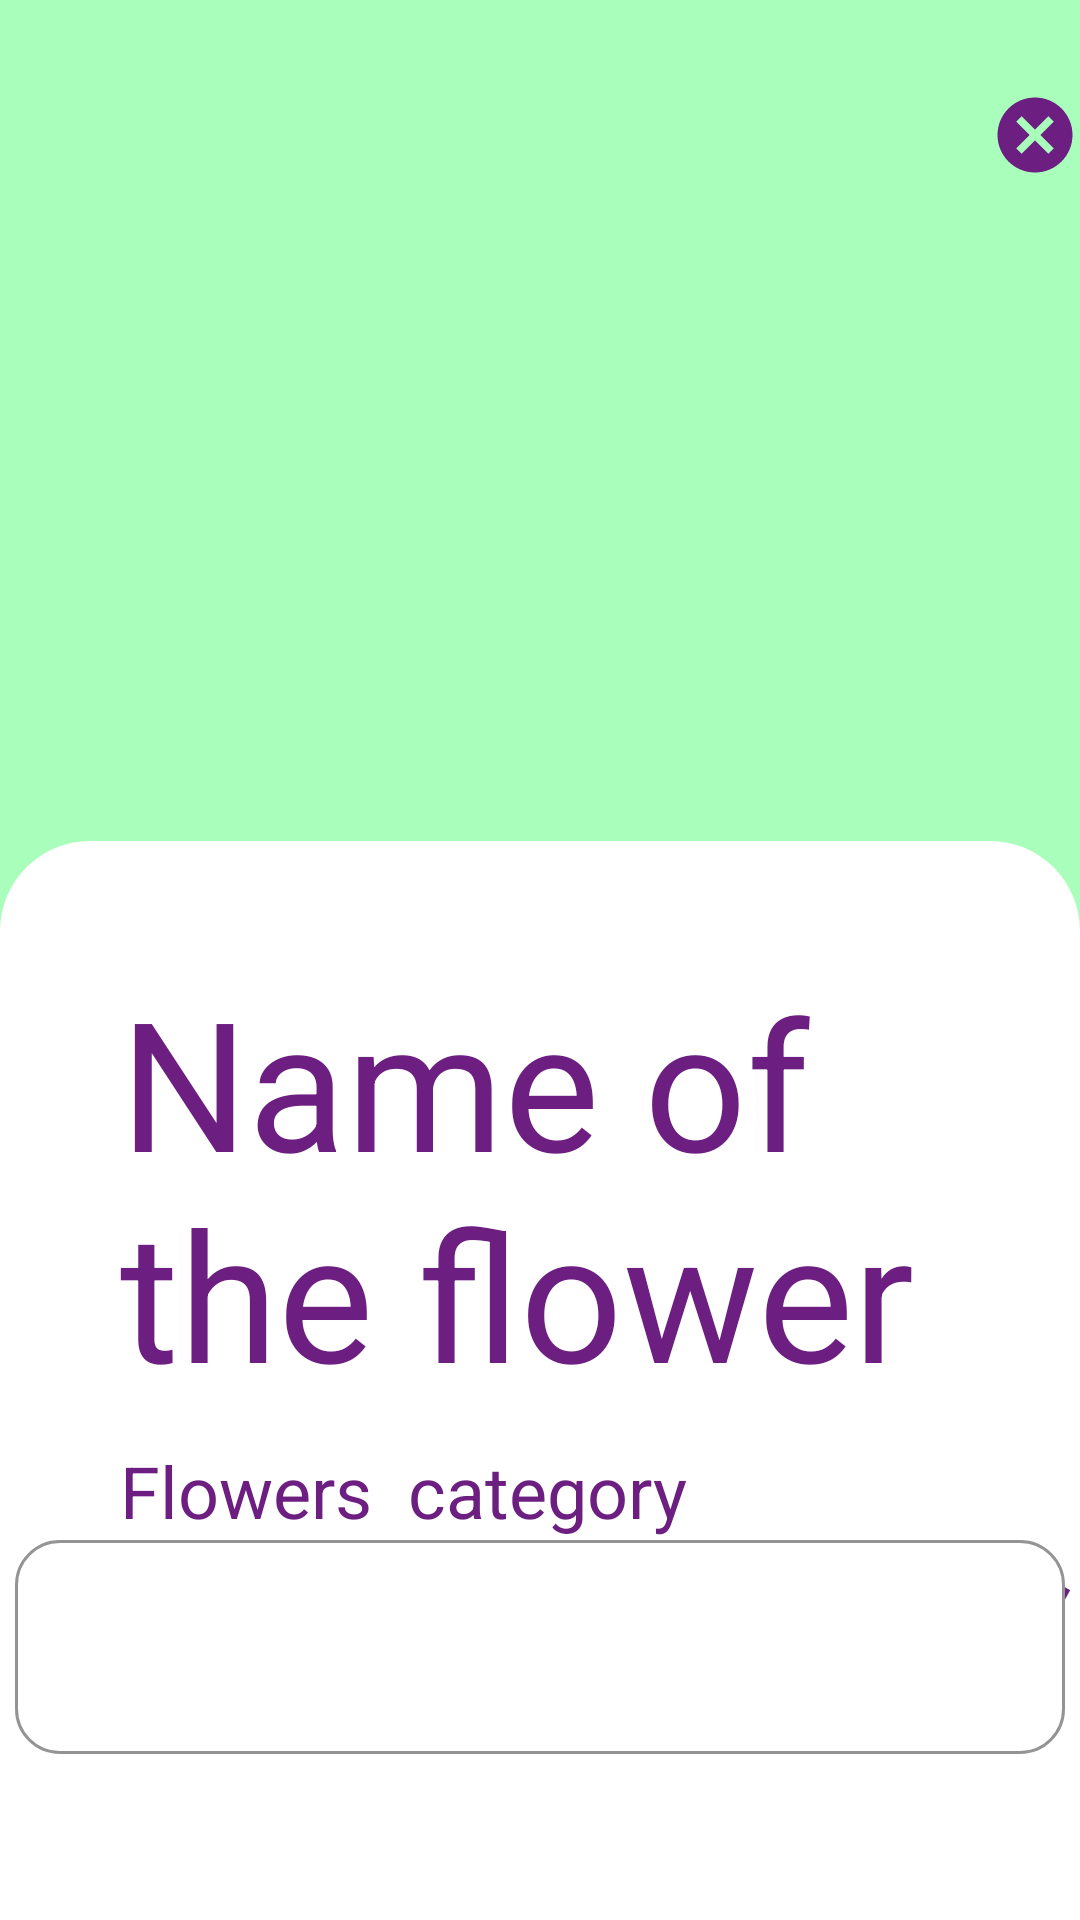

Point at icon controls on the screen. Image size 1080px x 1920px, points as (x,y).
cancel: (1035,135)
